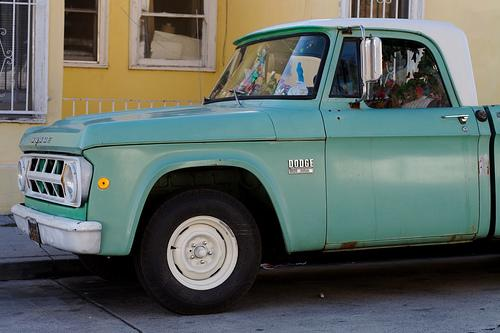truck: (11, 18, 500, 316)
